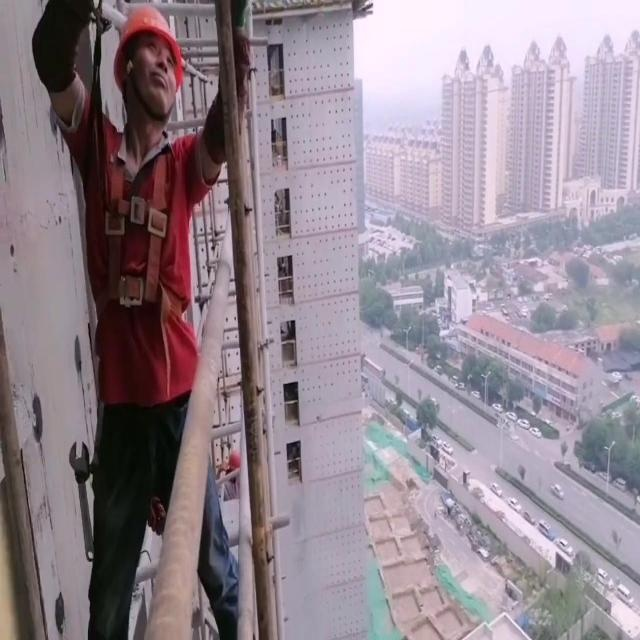Arnes_seguridad: (87, 118, 200, 346)
